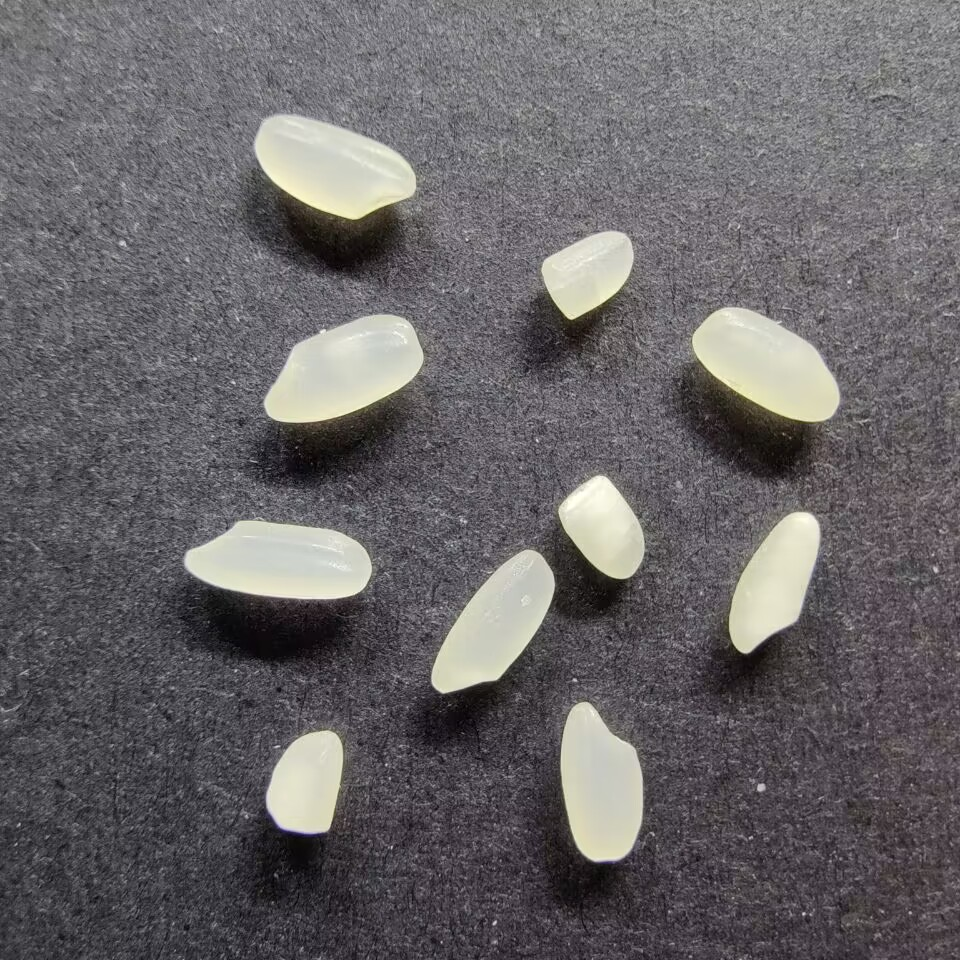broken: (555, 474, 646, 581), (539, 228, 636, 322), (266, 729, 347, 839)
rice: (428, 547, 556, 695), (690, 305, 843, 424), (253, 112, 417, 222), (261, 314, 422, 424), (181, 518, 373, 601), (557, 700, 645, 863), (726, 509, 821, 655)
